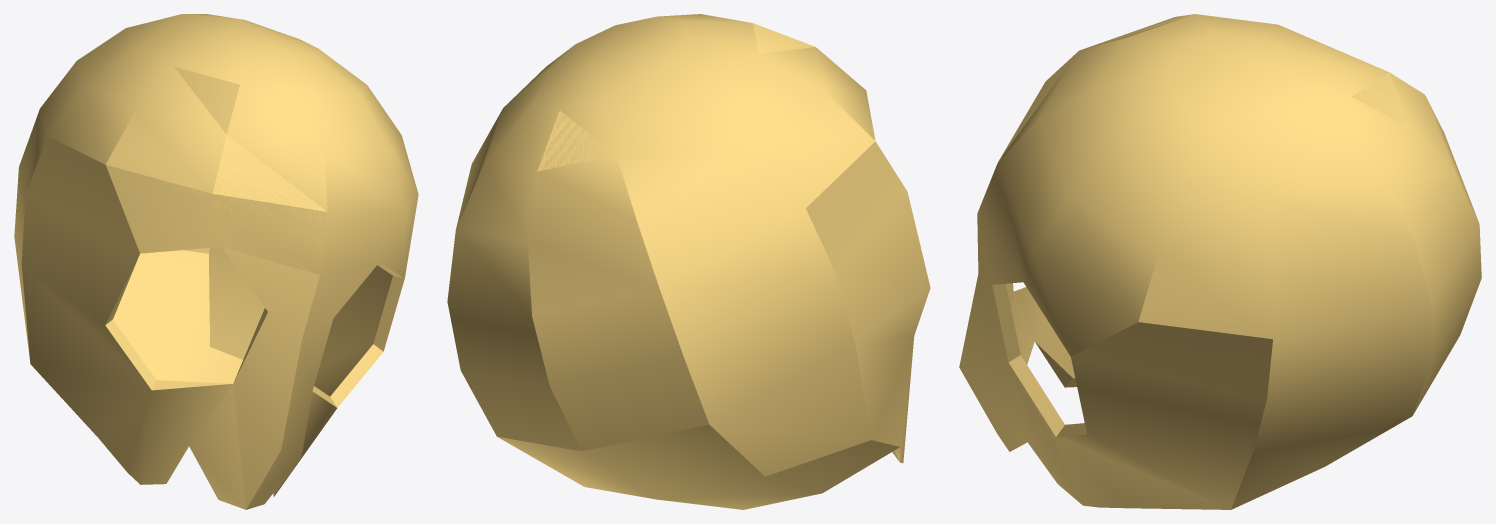
Rendered from skull.fbx.
3 views of the same model, side by side, from view 1: azimuth 30°, elevation 25°; view 2: azimuth 150°, elevation 25°; view 3: azimuth 270°, elevation 25° (orthographic). The views are drawn at different scales.
Parts seen in each view (by area): view 1: SKULL; view 2: SKULL; view 3: SKULL.
Boxes of the visible parts, x1,y1,x2,y2 form: SKULL: (14, 14, 418, 509); SKULL: (447, 14, 930, 509); SKULL: (959, 14, 1481, 509).
Bounding box in the file's own units: 184 × 214 × 214.
